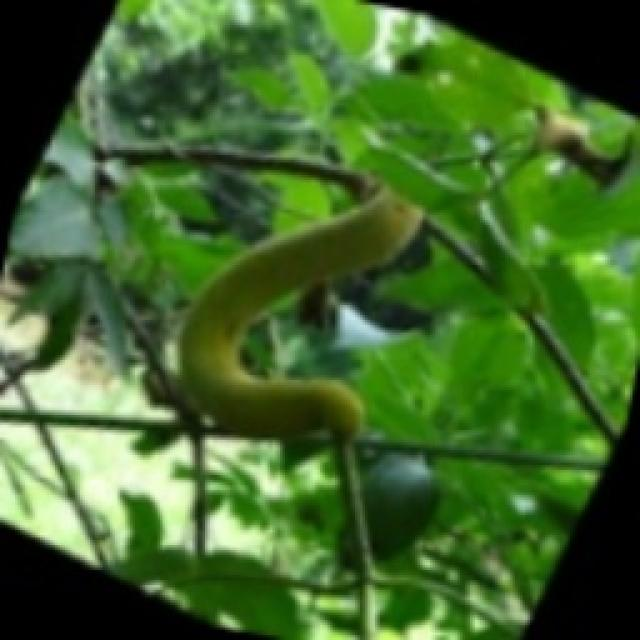Elderberry_rust: (139, 112, 525, 525)
